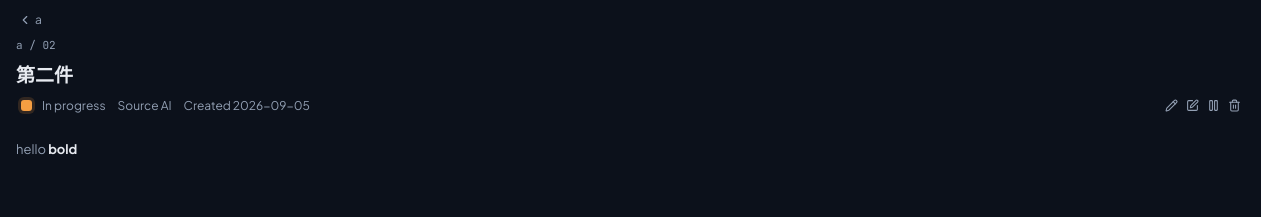
Test case: TaskDetail › 票：對 A 展開刪除確認後換成 B，確認列消失
Step 1. Click the button named "Delete" → [1234, 106], box top-left (1225, 96), bottom-right (1244, 115)
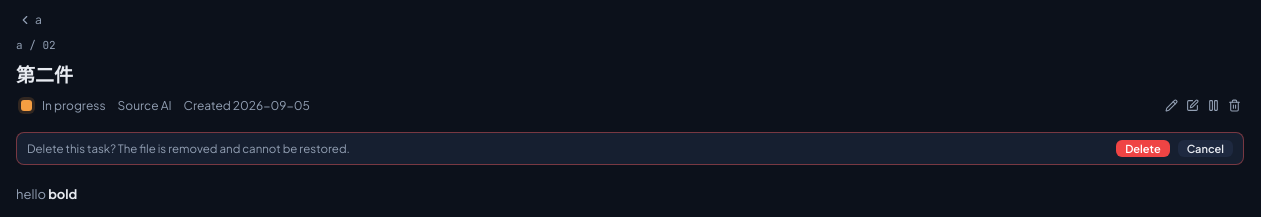
Expected: the element with class "tk-confirm" is shown, top-left (16, 132), bottom-right (1244, 165)
